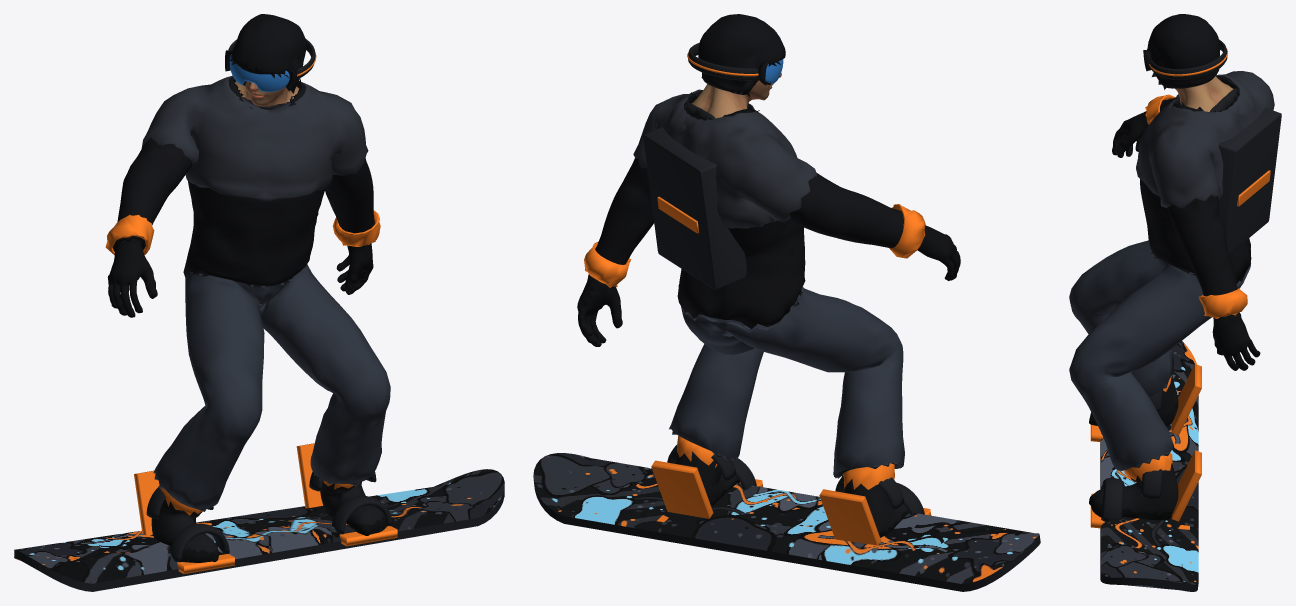
File: rider-snowboard.glb
3 views of the same model, side by side, from view 1: azimuth 30°, elevation 25°; view 2: azimuth 150°, elevation 25°; view 3: azimuth 270°, elevation 25° (orthographic). The views are drawn at different scales.
Parts seen in each view (by area): view 1: lower-pants, upper-panel, equipment-board, upper-jacket, feet-boots, hands-gloves, head-helmet, upper-cuffs, equipment-strap-1-1, equipment-highback-1, equipment-strap-0-1, head-lens (+2 smaller); view 2: equipment-board, lower-pants, upper-jacket, upper-panel, extras-backpack, head-helmet, feet-boots, hands-gloves, equipment-highback-0, equipment-highback-1, upper-cuffs, head-face (+1 smaller); view 3: lower-pants, equipment-board, upper-panel, upper-jacket, extras-backpack, head-helmet, feet-boots, hands-gloves, upper-cuffs, head-face, equipment-highback-1, equipment-highback-0 (+5 smaller).
Boxes of the visible parts, x1,y1,x2,y2 form: lower-pants: (153,264,390,511); upper-panel: (141,76,368,201); equipment-board: (14,469,504,591); upper-jacket: (112,76,374,287); feet-boots: (151,480,387,562); hands-gloves: (107,240,373,317); head-helmet: (228,14,306,93); upper-cuffs: (105,210,380,254); equipment-strap-1-1: (170,523,229,562); equipment-highback-1: (134,470,159,535); equipment-strap-0-1: (331,495,392,534); head-lens: (229,54,289,92); equipment-board: (533,453,1040,591); lower-pants: (669,285,904,478); upper-jacket: (595,90,903,328); upper-panel: (633,89,816,228); extras-backpack: (643,127,746,290); head-helmet: (698,14,785,96); feet-boots: (675,435,908,537); hands-gloves: (577,225,960,346); equipment-highback-0: (651,460,713,518); equipment-highback-1: (819,489,881,545); upper-cuffs: (584,204,925,287); head-face: (692,73,781,118); lower-pants: (1069,240,1250,470); equipment-board: (1100,341,1198,591); upper-panel: (1136,71,1274,208); upper-jacket: (1140,75,1251,319); extras-backpack: (1218,108,1281,254); head-helmet: (1146,14,1219,89); feet-boots: (1089,374,1178,520); hands-gloves: (1112,111,1260,370); upper-cuffs: (1145,94,1247,318); head-face: (1175,76,1233,111); equipment-highback-1: (1171,364,1201,434); equipment-highback-0: (1171,450,1201,521).
Size of the model in its own units: 1.58 by 1.66 by 0.6454.
Materials: 23 (3 with a texture image).
